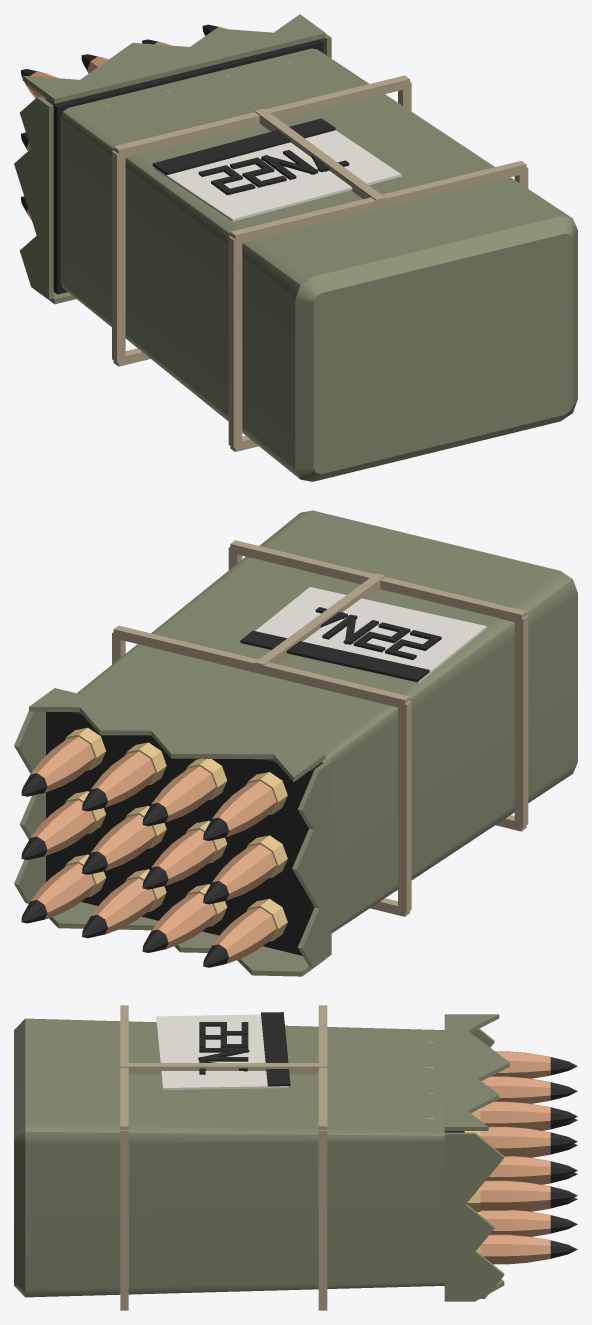
Rendered from ammo_545_ap.glb.
The picture shows the model from 3 angles, top to bottom: view 1: azimuth 30°, elevation 25°; view 2: azimuth 150°, elevation 25°; view 3: azimuth 270°, elevation 25°; orthographic projection. The views are drawn at different scales.
Visible parts, largest first — view 1: body; view 2: body; view 3: body.
Boxes of the visible parts, box(x1,y1,x2,y2) form: body: box(14, 14, 577, 481); body: box(14, 510, 577, 976); body: box(14, 1005, 577, 1310).
Size of the model in its own units: 0.0511 by 0.0361 by 0.0995.
